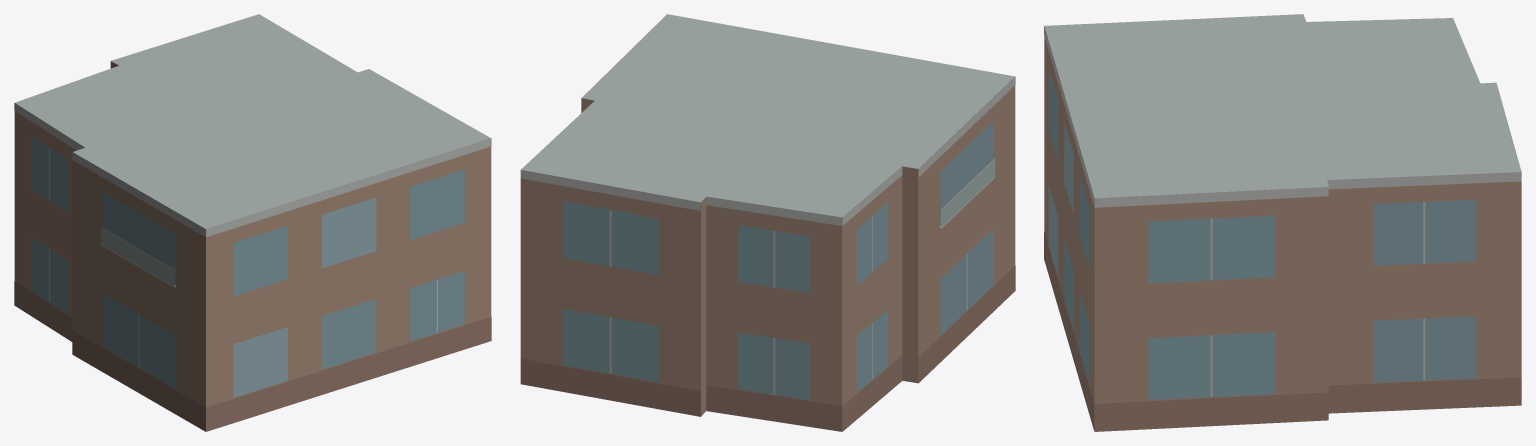
The model's file is survey-upis-32977355.glb.
3 renders of one model, left to right at view 1: azimuth 30°, elevation 25°; view 2: azimuth 150°, elevation 25°; view 3: azimuth 270°, elevation 25°, orthographic. The views are drawn at different scales.
Parts seen in each view (by area): view 1: survey-upis-32977355.tmp; view 2: survey-upis-32977355.tmp; view 3: survey-upis-32977355.tmp.
Part boxes in pixels (x1,y1,x2,y2): survey-upis-32977355.tmp: (14,14,491,431); survey-upis-32977355.tmp: (520,14,1015,431); survey-upis-32977355.tmp: (1044,14,1521,431).
Size of the model in its own units: 10.35 by 6.1 by 11.32.
